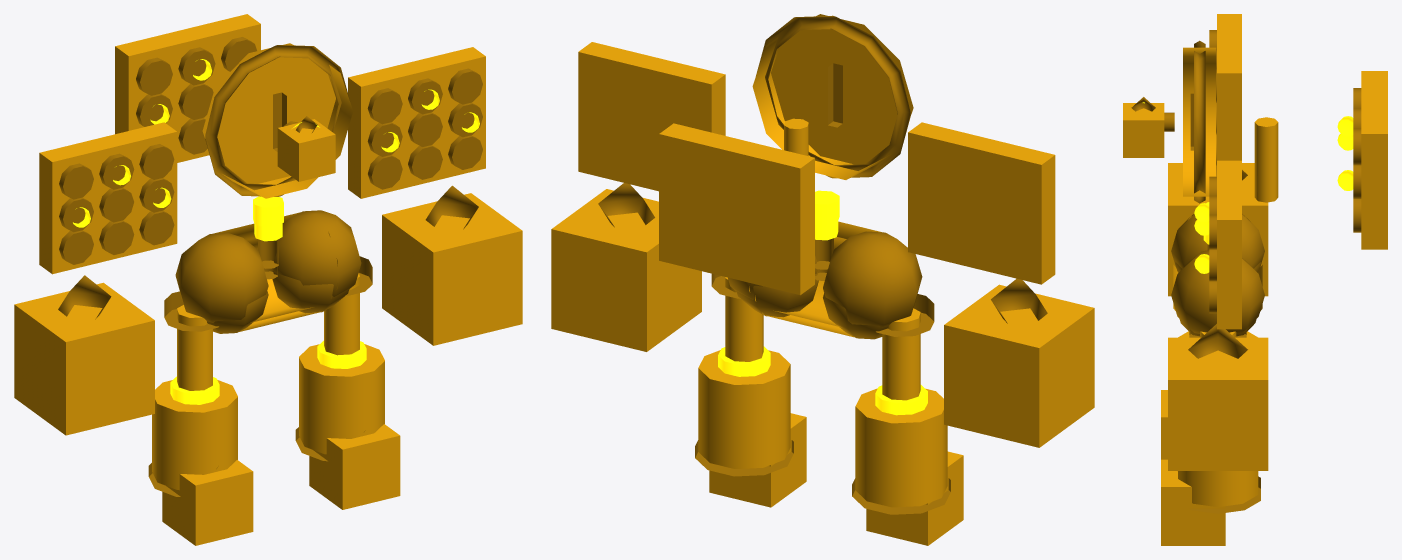
The model's file is golem_119.glb.
3 renders of one model, left to right at view 1: azimuth 30°, elevation 25°; view 2: azimuth 150°, elevation 25°; view 3: azimuth 270°, elevation 25°, orthographic. The views are drawn at different scales.
Visible parts, largest first — view 1: Body, Detail, Glow; view 2: Body, Detail, Glow; view 3: Body, Detail, Glow.
Part boxes in pixels (x1,y1,x2,y2): Body: (14,14,522,545); Detail: (58,37,482,496); Glow: (73,59,479,404); Body: (551,14,1094,545); Detail: (598,15,1047,514); Glow: (718,190,927,415); Body: (1123,14,1387,545); Detail: (1131,30,1361,513); Glow: (1142,102,1353,273).
Bounding box in the file's own units: 1.27 × 1.22 × 0.6539.
